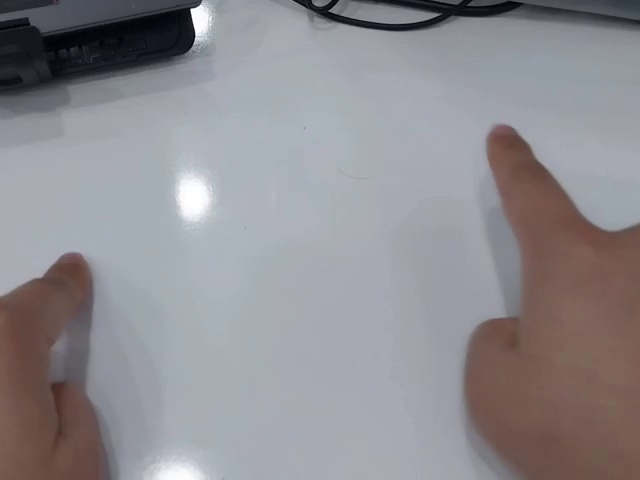fingers: (42, 250, 91, 312), (485, 123, 534, 171)
